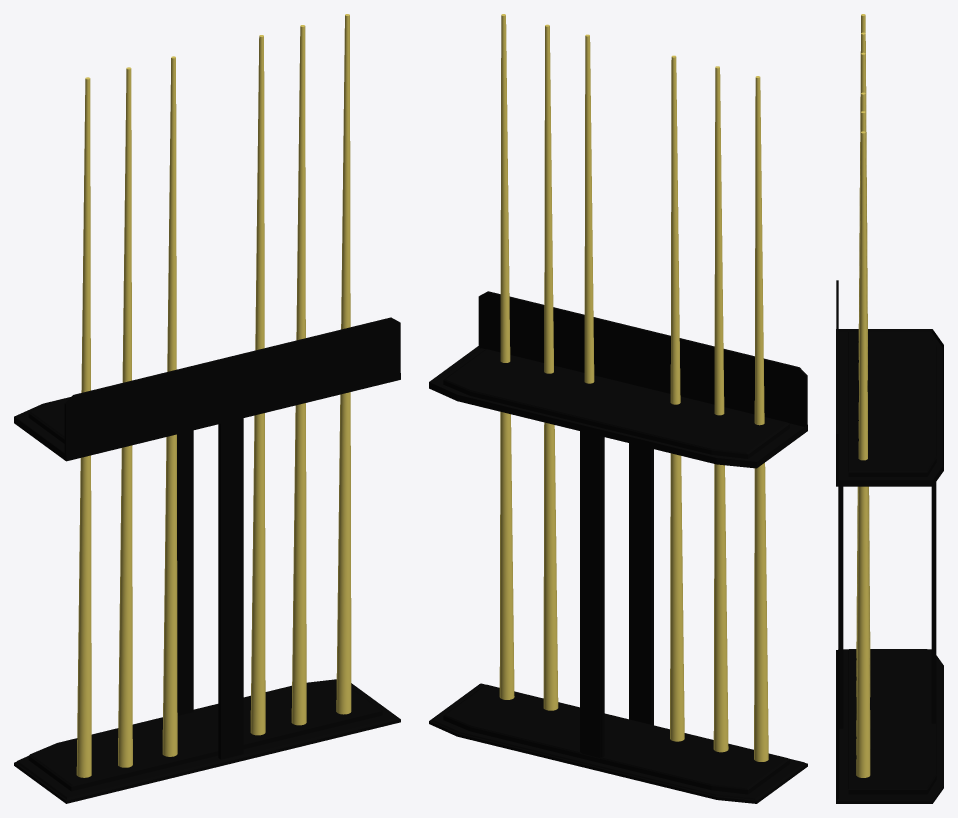
Rendered from pool rack.fbx.
The picture shows the model from 3 angles, left to right: view 1: azimuth 30°, elevation 25°; view 2: azimuth 150°, elevation 25°; view 3: azimuth 270°, elevation 25°; orthographic projection. The views are drawn at different scales.
Parts seen in each view (by area): view 1: Cube.004, Cube, Cube.003, Poolcue.004, Poolcue.003, Poolcue.006, Poolcue.005, Poolcue.007, Poolcue.002, Cube.002, Cube.001; view 2: Cube.001, Cube, Cube.004, Cube.002, Cube.003, Poolcue.006, Poolcue.004, Poolcue.005, Poolcue.007, Poolcue.002, Poolcue.003; view 3: Cube.001, Cube, Poolcue.002, Cube.003, Cube.002, Poolcue.005, Poolcue.004, Cube.004, Poolcue.003, Poolcue.007, Poolcue.006.
Part boxes in pixels (x1,y1,x2,y2): Cube.004: [64, 317, 400, 454]; Cube: [14, 679, 400, 803]; Cube.003: [218, 418, 243, 759]; Poolcue.004: [291, 25, 306, 725]; Poolcue.003: [250, 35, 265, 735]; Poolcue.006: [76, 77, 91, 777]; Poolcue.005: [162, 56, 177, 756]; Poolcue.007: [118, 67, 132, 767]; Poolcue.002: [336, 14, 351, 714]; Cube.002: [177, 430, 193, 715]; Cube.001: [14, 373, 400, 461]; Cube.001: [429, 346, 807, 468]; Cube: [429, 683, 807, 803]; Cube.004: [478, 291, 807, 431]; Cube.002: [580, 431, 604, 757]; Cube.003: [629, 443, 653, 725]; Poolcue.006: [754, 76, 768, 761]; Poolcue.004: [543, 24, 558, 710]; Poolcue.005: [670, 55, 684, 741]; Poolcue.007: [713, 66, 728, 752]; Poolcue.002: [499, 14, 514, 699]; Poolcue.003: [584, 34, 594, 383]; Cube.001: [836, 329, 943, 486]; Cube: [836, 649, 943, 803]; Poolcue.002: [856, 131, 870, 777]; Cube.003: [838, 486, 843, 728]; Cube.002: [931, 482, 936, 723]; Poolcue.005: [856, 52, 870, 696]; Poolcue.004: [856, 111, 870, 754]; Cube.004: [836, 280, 838, 483]; Poolcue.003: [856, 92, 870, 736]; Poolcue.007: [856, 32, 870, 676]; Poolcue.006: [856, 14, 870, 657].
Size of the model in its own units: 73 by 147 by 22.
